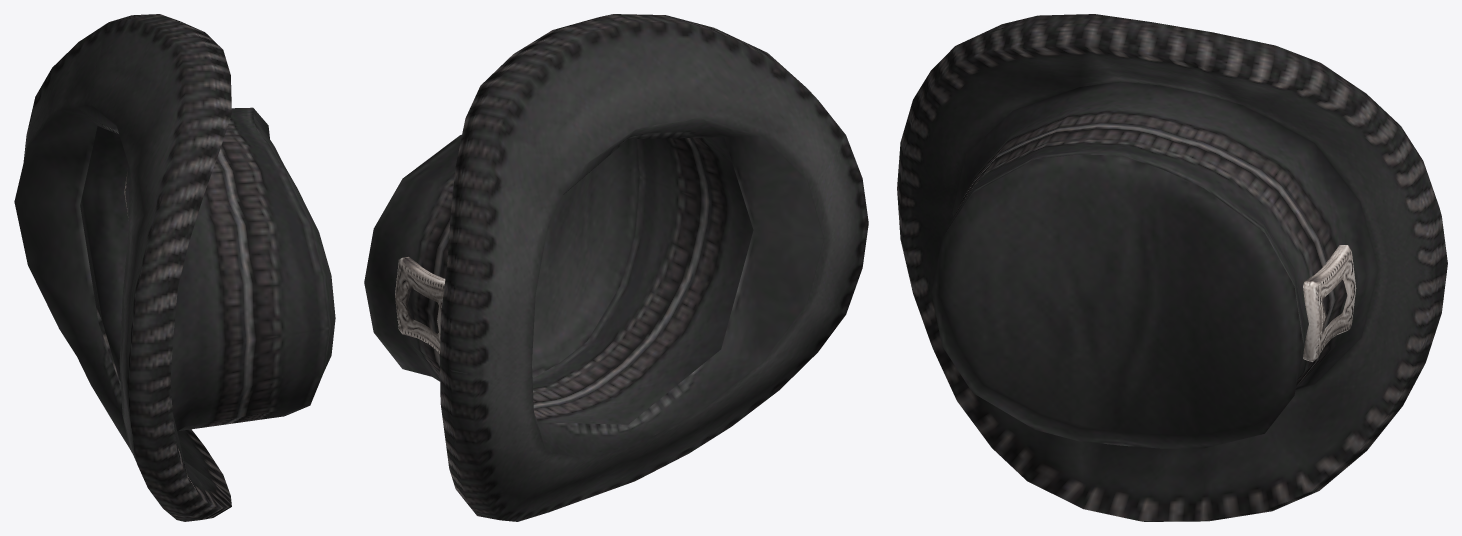
File: F_BuckleHat.fbx
The picture shows the model from 3 angles, left to right: view 1: azimuth 30°, elevation 25°; view 2: azimuth 150°, elevation 25°; view 3: azimuth 270°, elevation 25°; orthographic projection. The views are drawn at different scales.
Parts seen in each view (by area): view 1: 24_hat_0.1_0_0.002; view 2: 24_hat_0.1_0_0.002; view 3: 24_hat_0.1_0_0.002.
Boxes of the visible parts, box(x1,y1,x2,y2) form: 24_hat_0.1_0_0.002: box(14, 14, 335, 521); 24_hat_0.1_0_0.002: box(364, 14, 868, 521); 24_hat_0.1_0_0.002: box(897, 14, 1447, 521).
Size of the model in its own units: 0.1226 by 0.1682 by 0.172.
